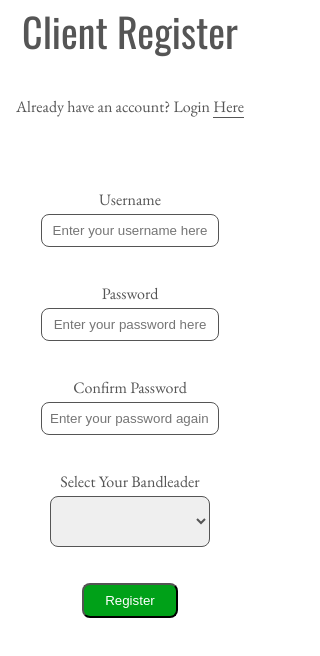
it: <ClientRegisterPage/> › Unsucessfully register user › Passwords don't match
The width and height of the screenshot is (320, 656).
Type "testuser@gmail.com" into the field with test id "UsernameTextInput" at (130, 230), box [41,214,219,247]
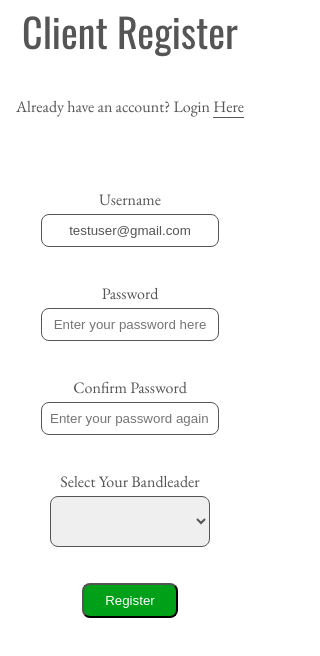
Type "testpassword" into the password field with test id "PasswordTextInput" at (130, 324), box [41,308,219,341]
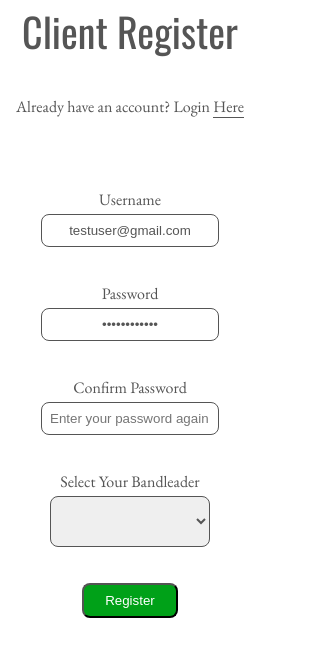
Type "passwordtest" into the password field with test id "Confirm PasswordTextInput" at (130, 418), box [41,402,219,435]
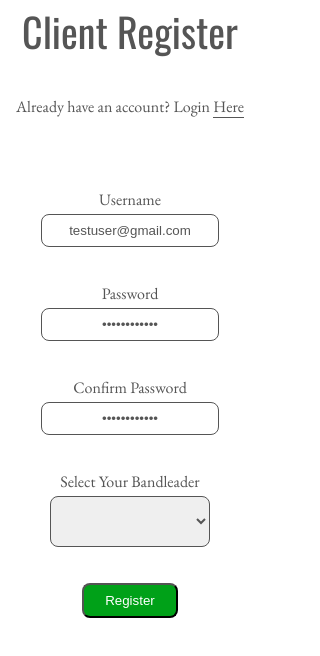
Select "testbandleader@gmail.com" in the dropdown with test id "Select Your BandleaderDropdown" at (130, 521), box [50,496,210,547]
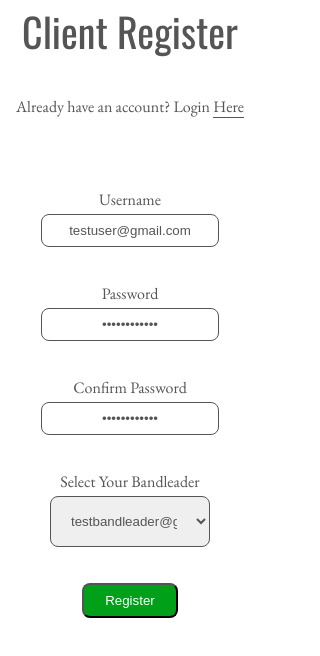
Click the button "Register" at (130, 600), box [82,583,178,618]
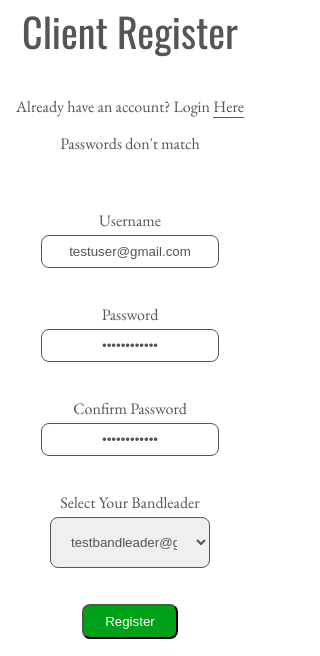
Check: the text "Passwords don't match" is shown, box [60,133,200,154]
